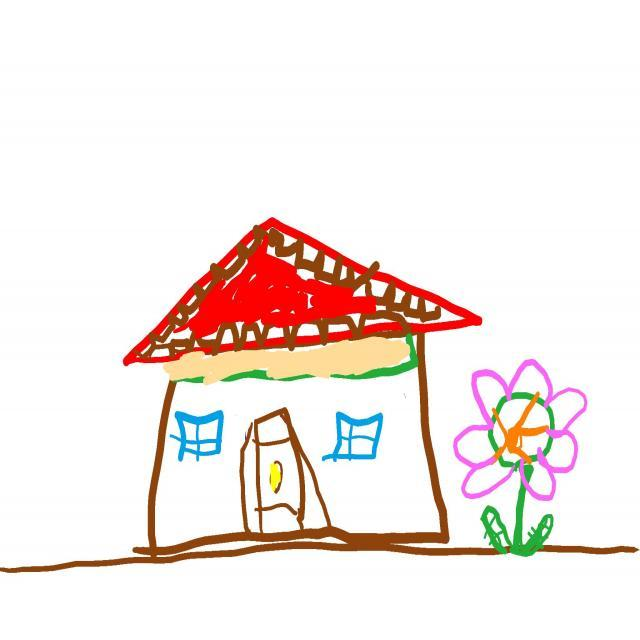door: (240, 409, 331, 534)
house: (124, 218, 483, 562)
roof: (124, 218, 483, 364)
wall: (145, 358, 455, 553)
window: (323, 414, 383, 462), (169, 411, 224, 462)
